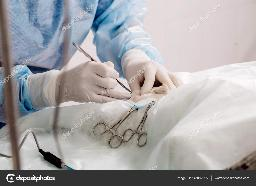scalpel: (72, 42, 132, 94)
